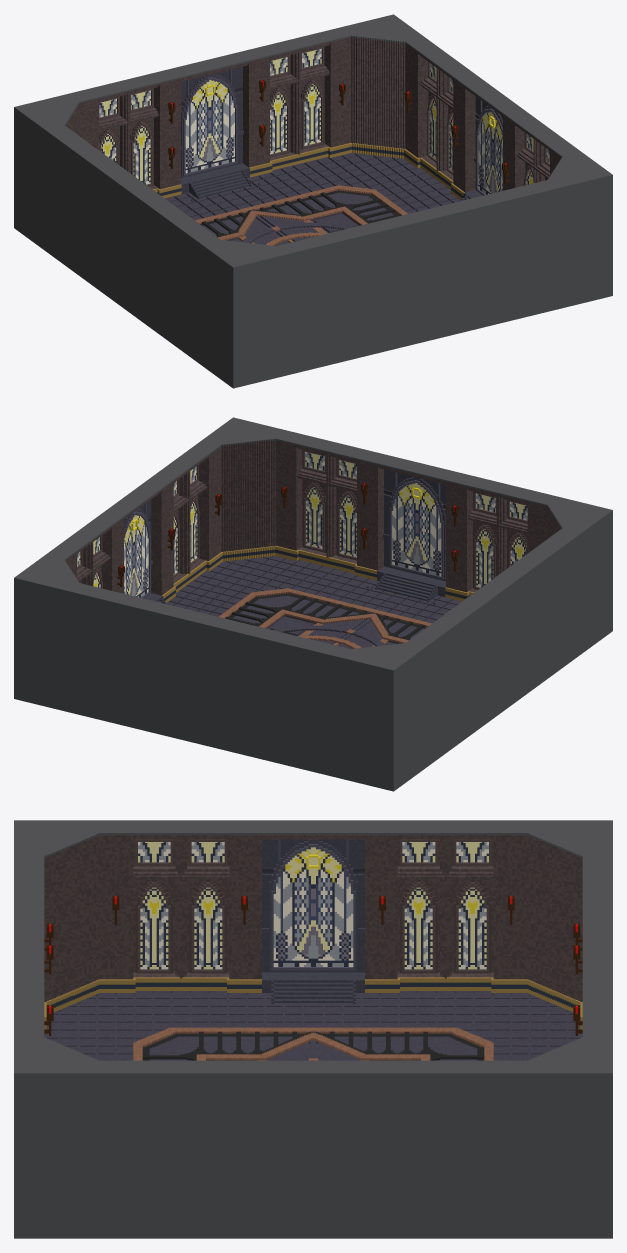
The model's file is stage1Light.fbx.
3 views of the same model, one above another, from view 1: azimuth 30°, elevation 25°; view 2: azimuth 150°, elevation 25°; view 3: azimuth 270°, elevation 25° (orthographic). The views are drawn at different scales.
Parts seen in each view (by area): view 1: stage1-0; view 2: stage1-0; view 3: stage1-0.
Part boxes in pixels (x1,y1,x2,y2): stage1-0: [14, 14, 612, 388]; stage1-0: [14, 417, 612, 791]; stage1-0: [14, 820, 612, 1238].
Bounding box in the file's own units: 183 × 55.8 × 183.
